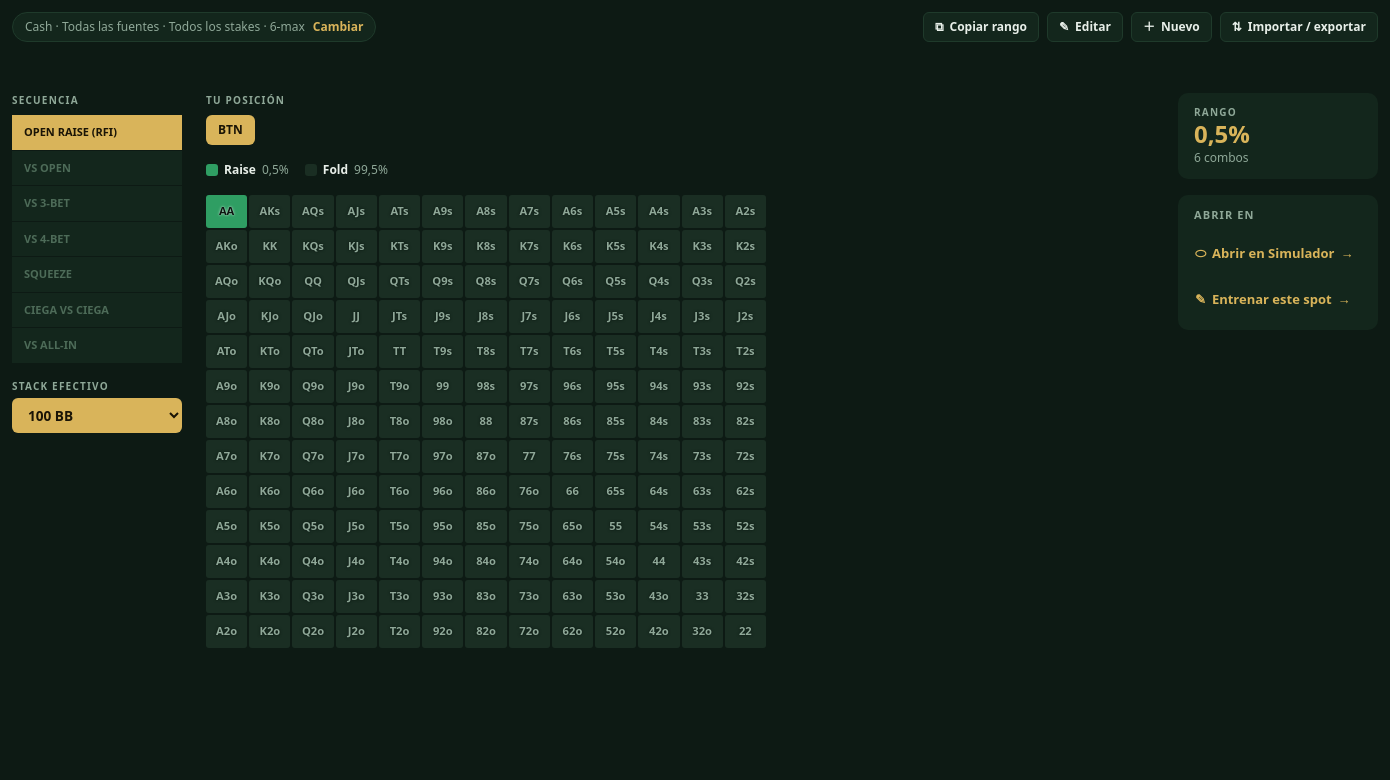
Test: PreflopViewer › copies the range as text, and reports when the clipboard is unavailable
Click the button "⧉ Copiar rango" at (981, 27), box [923,12,1039,42]
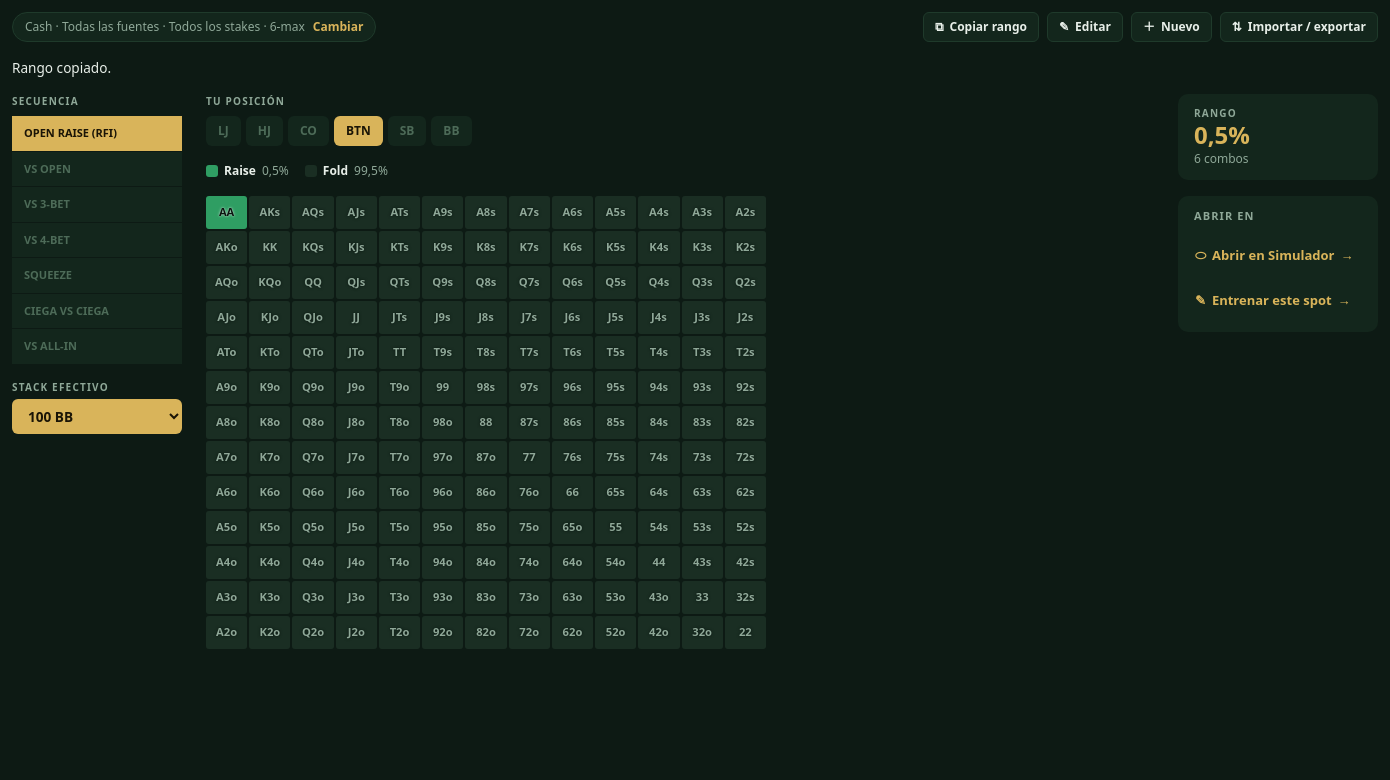
Result: the message reads "Rango copiado." at [12,58,111,77]
Click the button "⧉ Copiar rango" at (981, 27), box [923,12,1039,42]
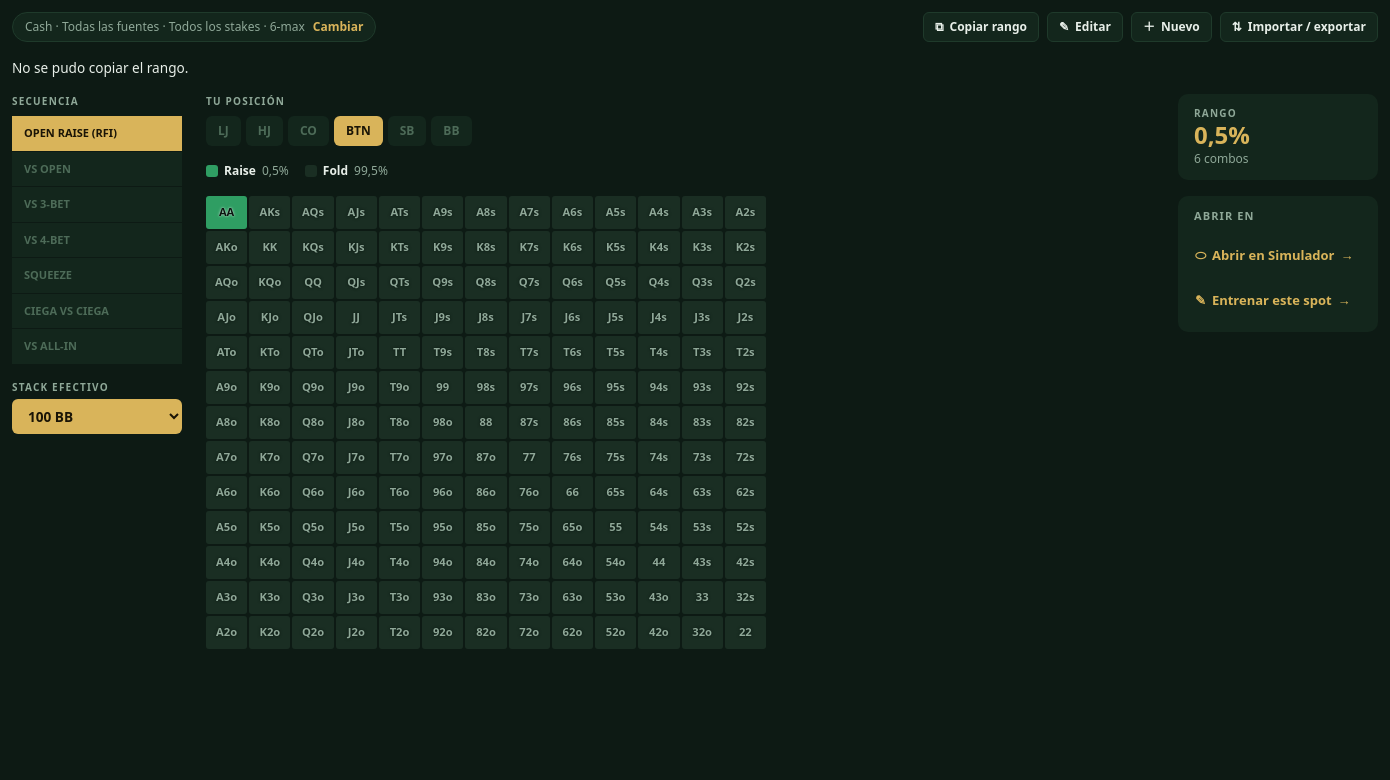
Result: the text "No se pudo copiar el rango." is shown at [12,58,188,77]
